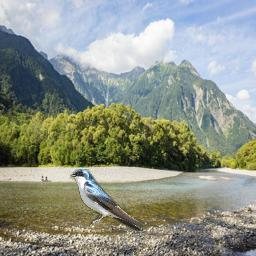Swallow: (70, 169, 145, 231)
